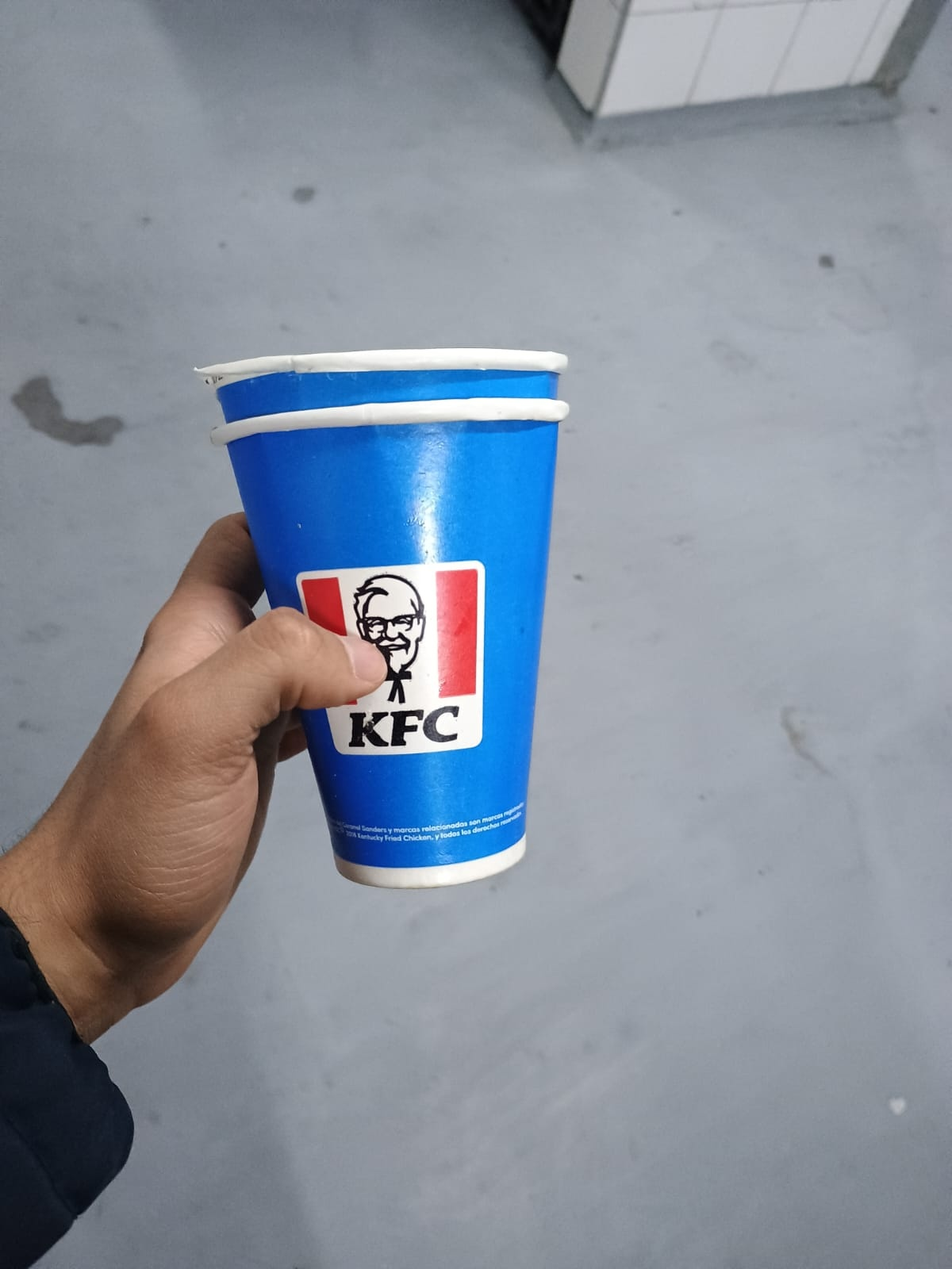Carton: (200, 347, 568, 890)
